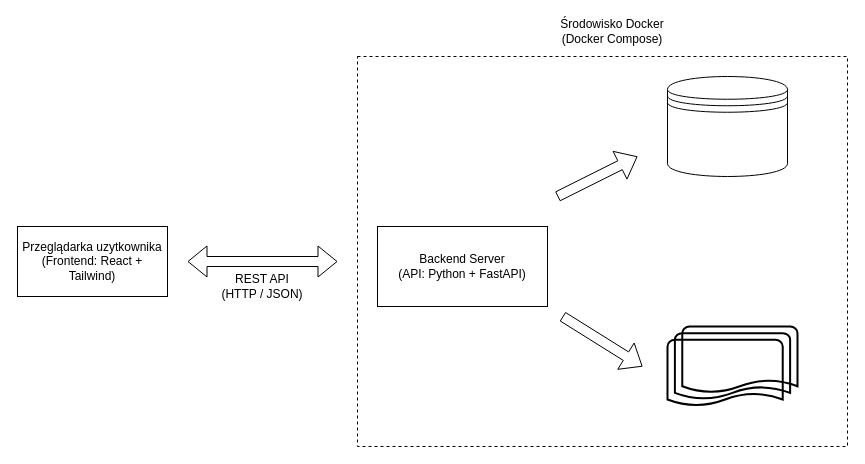
This 865x464 diagram has some shape labels left out. The shapes that lost their labels are listed below. From the top down, each one's box as (x1, y1, x2, y2) in pixels, then its label:
(666, 76, 788, 176): Relacyjna baza danych ( PostgreSQL )
(666, 325, 798, 407): File Storage (Docker Volume)
